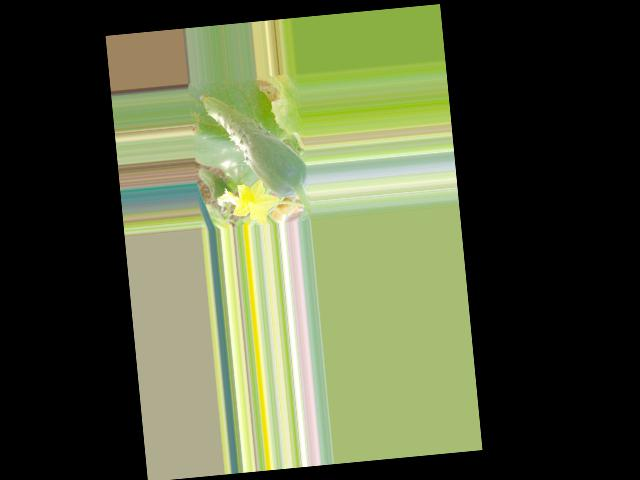cucumber: (198, 85, 309, 205)
